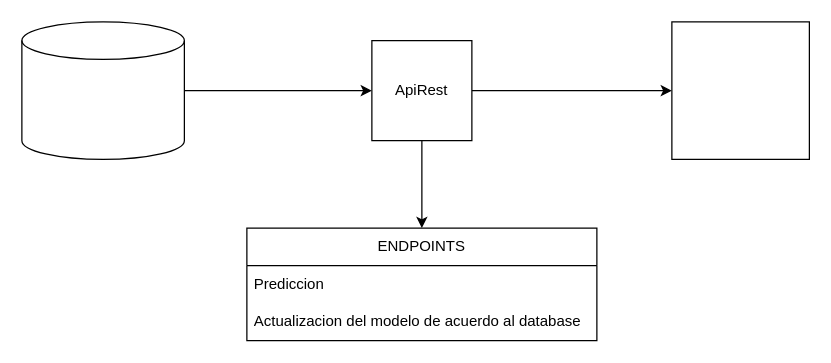
Some shapes in this 831 by 363 pixel diagram are drawn without their labels. Here are the shapes that lost their labels. From the top down, the centre of each, then its label:
At pixel 102 90: "SQL Azure".
At pixel 740 90: "Mostramos los resultados".
